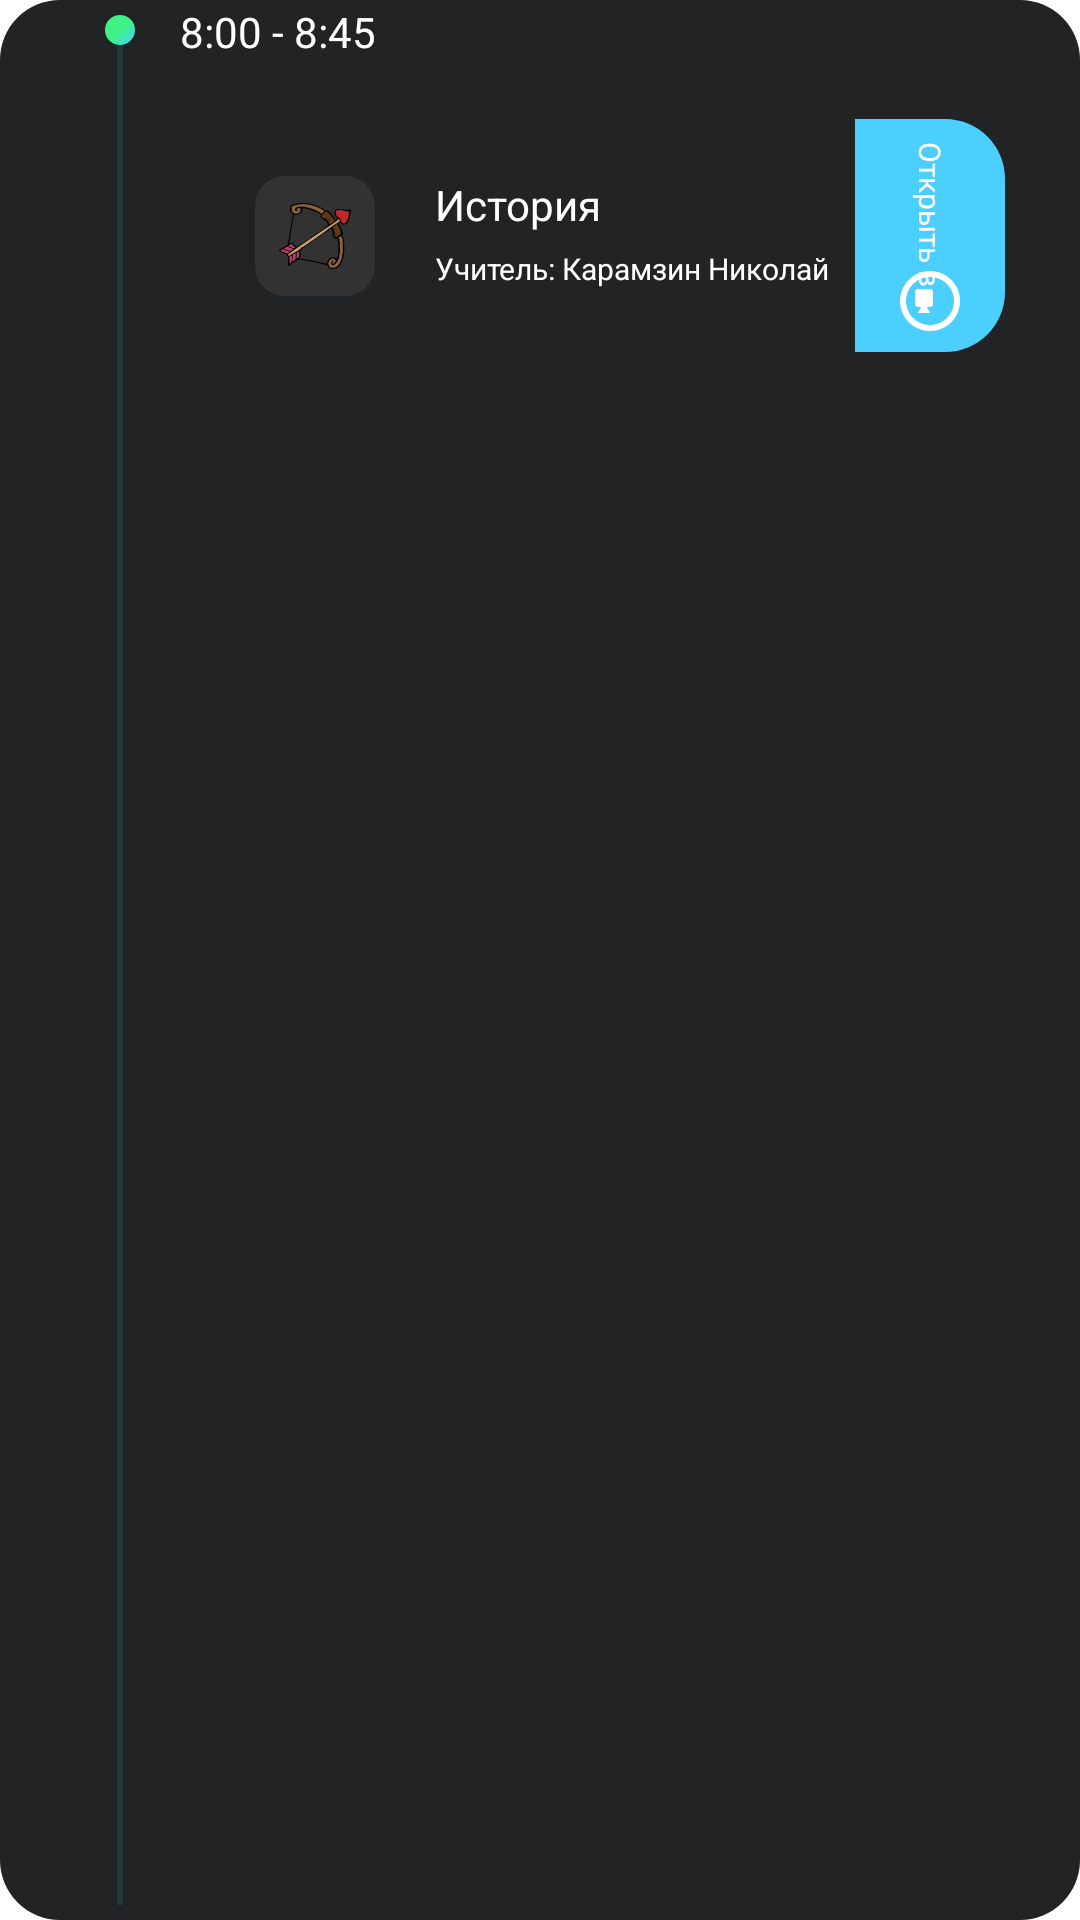

Named icons in this screenshot (1080px×1920px) and their bounding boxes, (x1=x1, y1=y1, x2=x2, y2=y2):
bow: (x1=279, y1=203, x2=351, y2=269)
